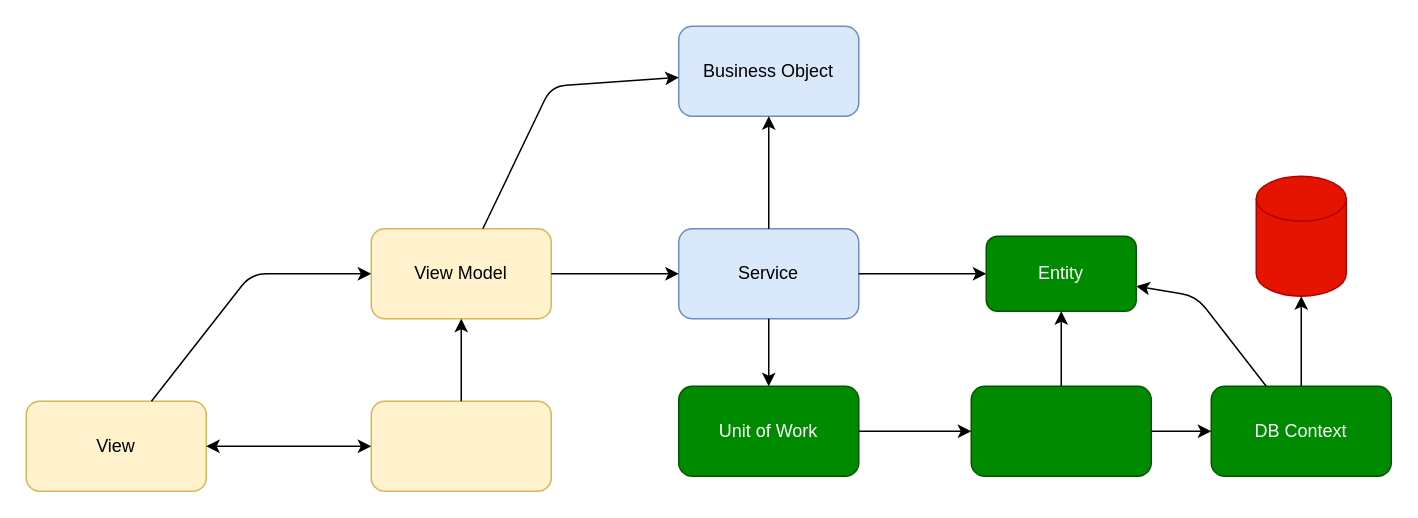
Image size: 1418x518. Some labels were removed from this diagram. Each missing label, with the centre of its shape:
"Controller" goes at (x=460, y=445).
"DB" goes at (x=1300, y=235).
"Repository" goes at (x=1060, y=430).
